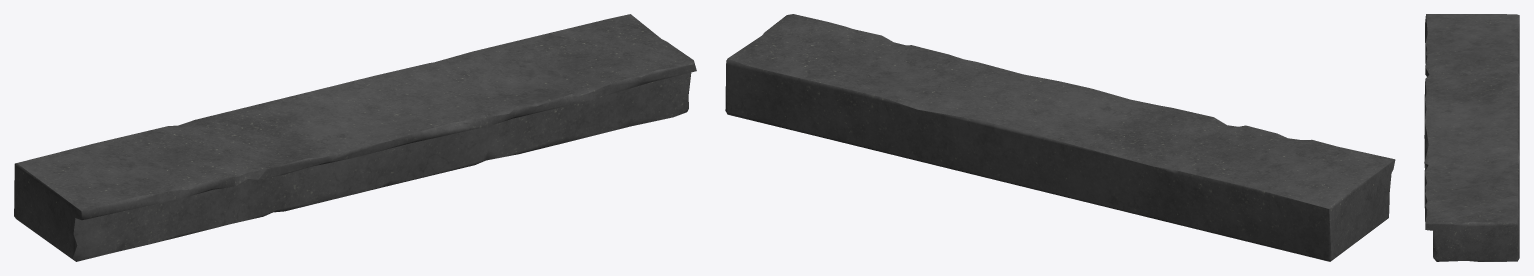
File: SM_Step2.fbx
3 renders of one model, left to right at view 1: azimuth 30°, elevation 25°; view 2: azimuth 150°, elevation 25°; view 3: azimuth 270°, elevation 25°, orthographic. The views are drawn at different scales.
Parts seen in each view (by area): view 1: SM_Step2_LOD0; view 2: SM_Step2_LOD0; view 3: SM_Step2_LOD0.
Boxes of the visible parts, x1,y1,x2,y2 form: SM_Step2_LOD0: (14, 14, 696, 261); SM_Step2_LOD0: (725, 14, 1395, 261); SM_Step2_LOD0: (1424, 14, 1519, 261).
Bounding box in the file's own units: 310 × 59.33 × 27.41.
Materials: 1 (1 with a texture image).
